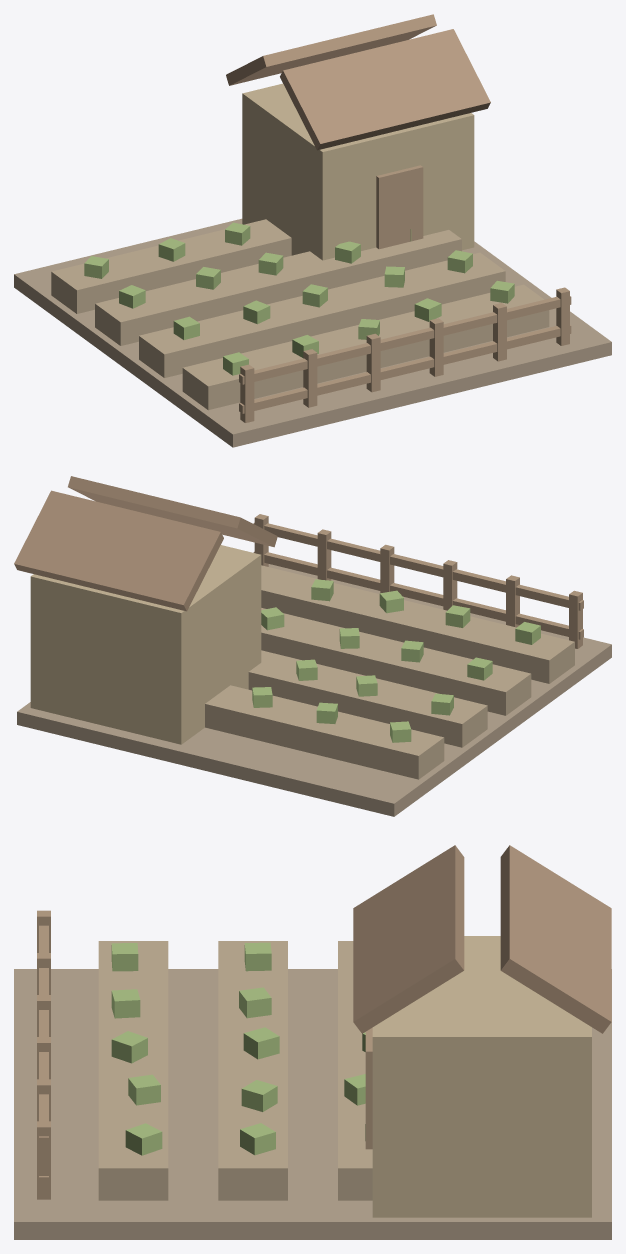
Rendered from POTATO_FARM.glb.
3 views of the same model, one above another, from view 1: azimuth 30°, elevation 25°; view 2: azimuth 150°, elevation 25°; view 3: azimuth 270°, elevation 25° (orthographic). The views are drawn at different scales.
Parts seen in each view (by area): view 1: POTATO_FARM; view 2: POTATO_FARM; view 3: POTATO_FARM.
Part boxes in pixels (bbox=[...]): POTATO_FARM: bbox=[14, 14, 611, 447]; POTATO_FARM: bbox=[14, 476, 611, 816]; POTATO_FARM: bbox=[14, 845, 611, 1239].
Size of the model in its own units: 3.03 by 1.57 by 3.
